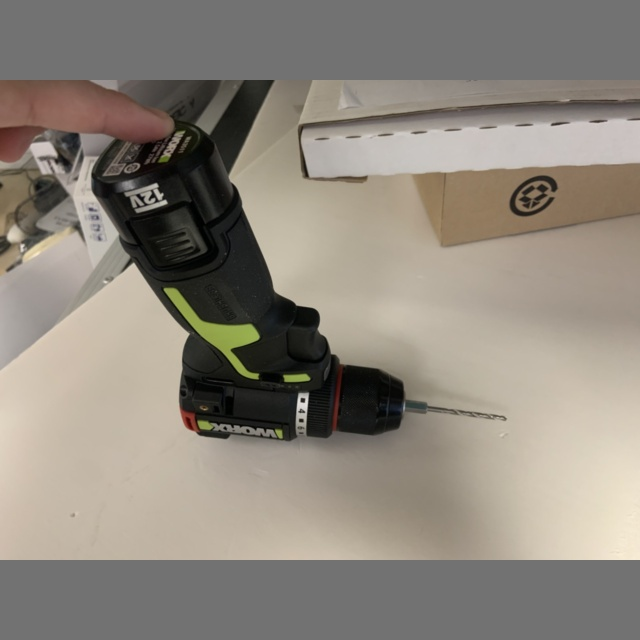drill: (90, 128, 506, 440)
